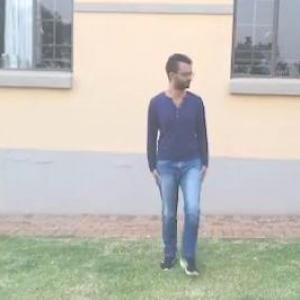follow: (146, 48, 214, 288)
